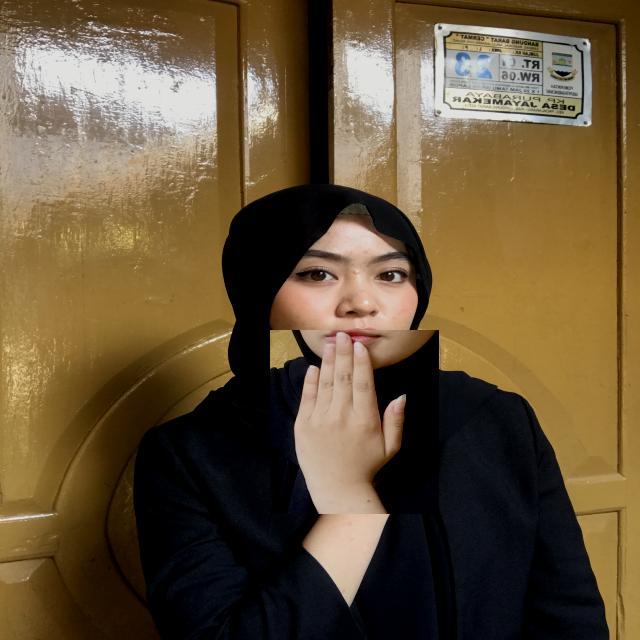ganteng: (270, 330, 439, 514)
